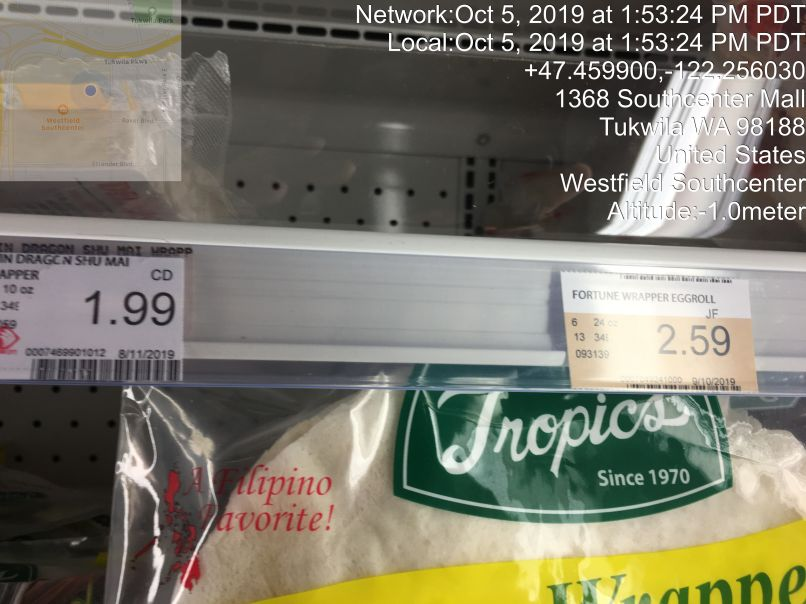Label: (547, 255, 781, 407)
Location: (552, 81, 806, 197)
Time: (351, 2, 806, 53)
Void: (207, 12, 785, 229)
